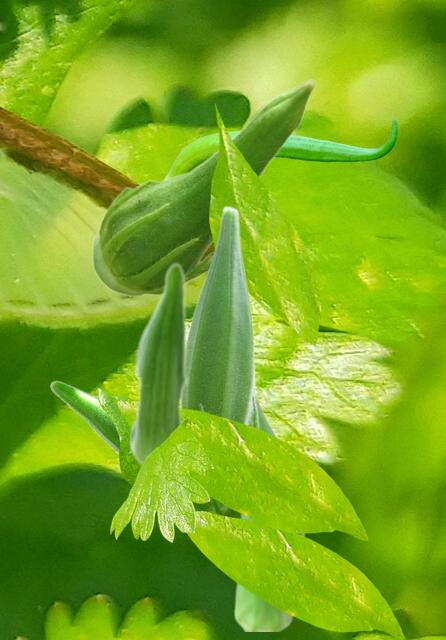okra: (91, 78, 316, 296), (49, 380, 234, 516), (233, 394, 305, 630), (183, 205, 259, 428), (164, 118, 397, 178), (128, 261, 188, 467)
